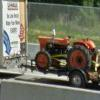Tractor: (30, 24, 94, 80)
